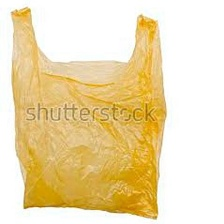plastic_bag: (0, 4, 173, 220)
